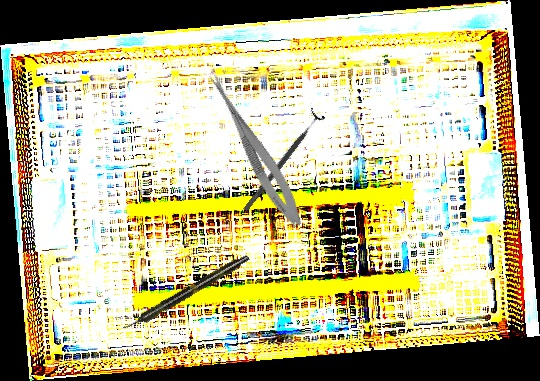Fixation Ring: (237, 107, 327, 216)
Handpiece: (120, 251, 252, 335)
Micro Scissor: (198, 69, 310, 232)
